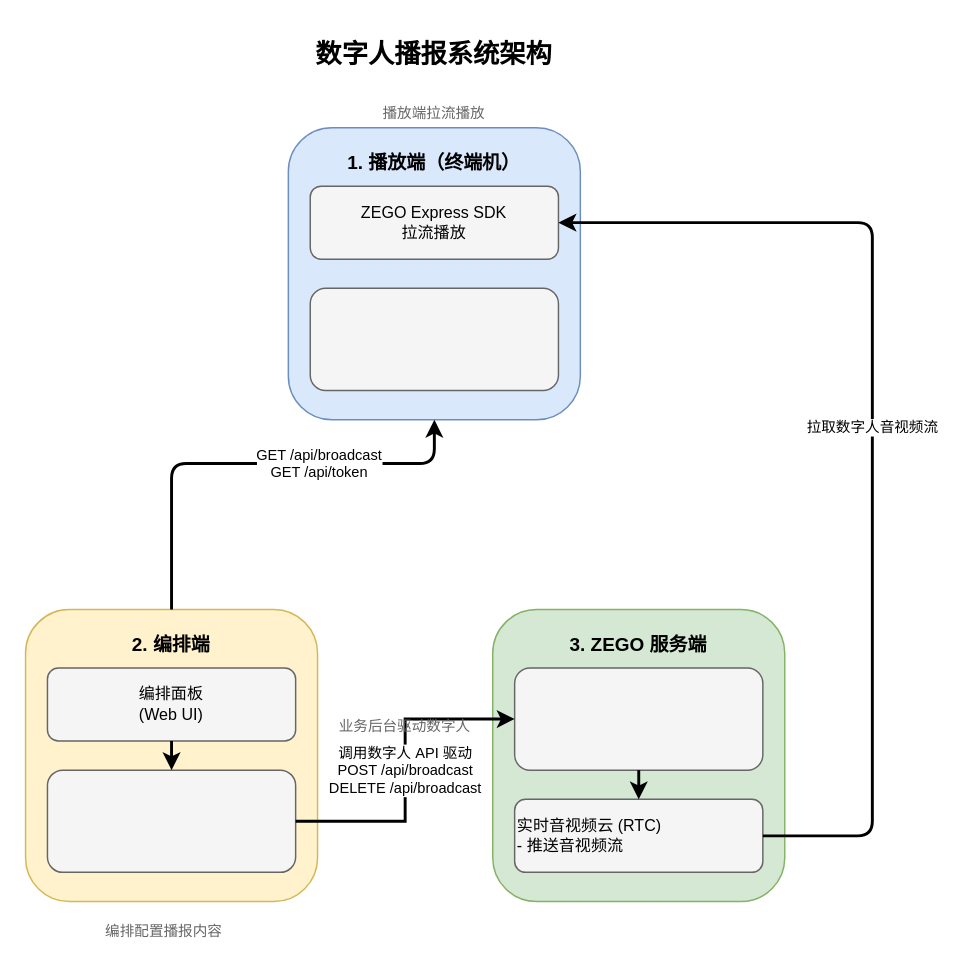
Some shapes in this 964 by 969 pixel diagram are drawn without their labels. Here are the shapes that lost their labels. From the top down, the centre of each, then its label:
At (x=433, y=339): "数字人 SDK (Android/iOS) 本地渲染".
At (x=638, y=718): "数字人 API - 创建流任务 - 文本驱动 - 停止任务".
At (x=171, y=820): "业务后台 - 定时驱动，仅作示例 - 可按业务需求自行实现逻辑".
